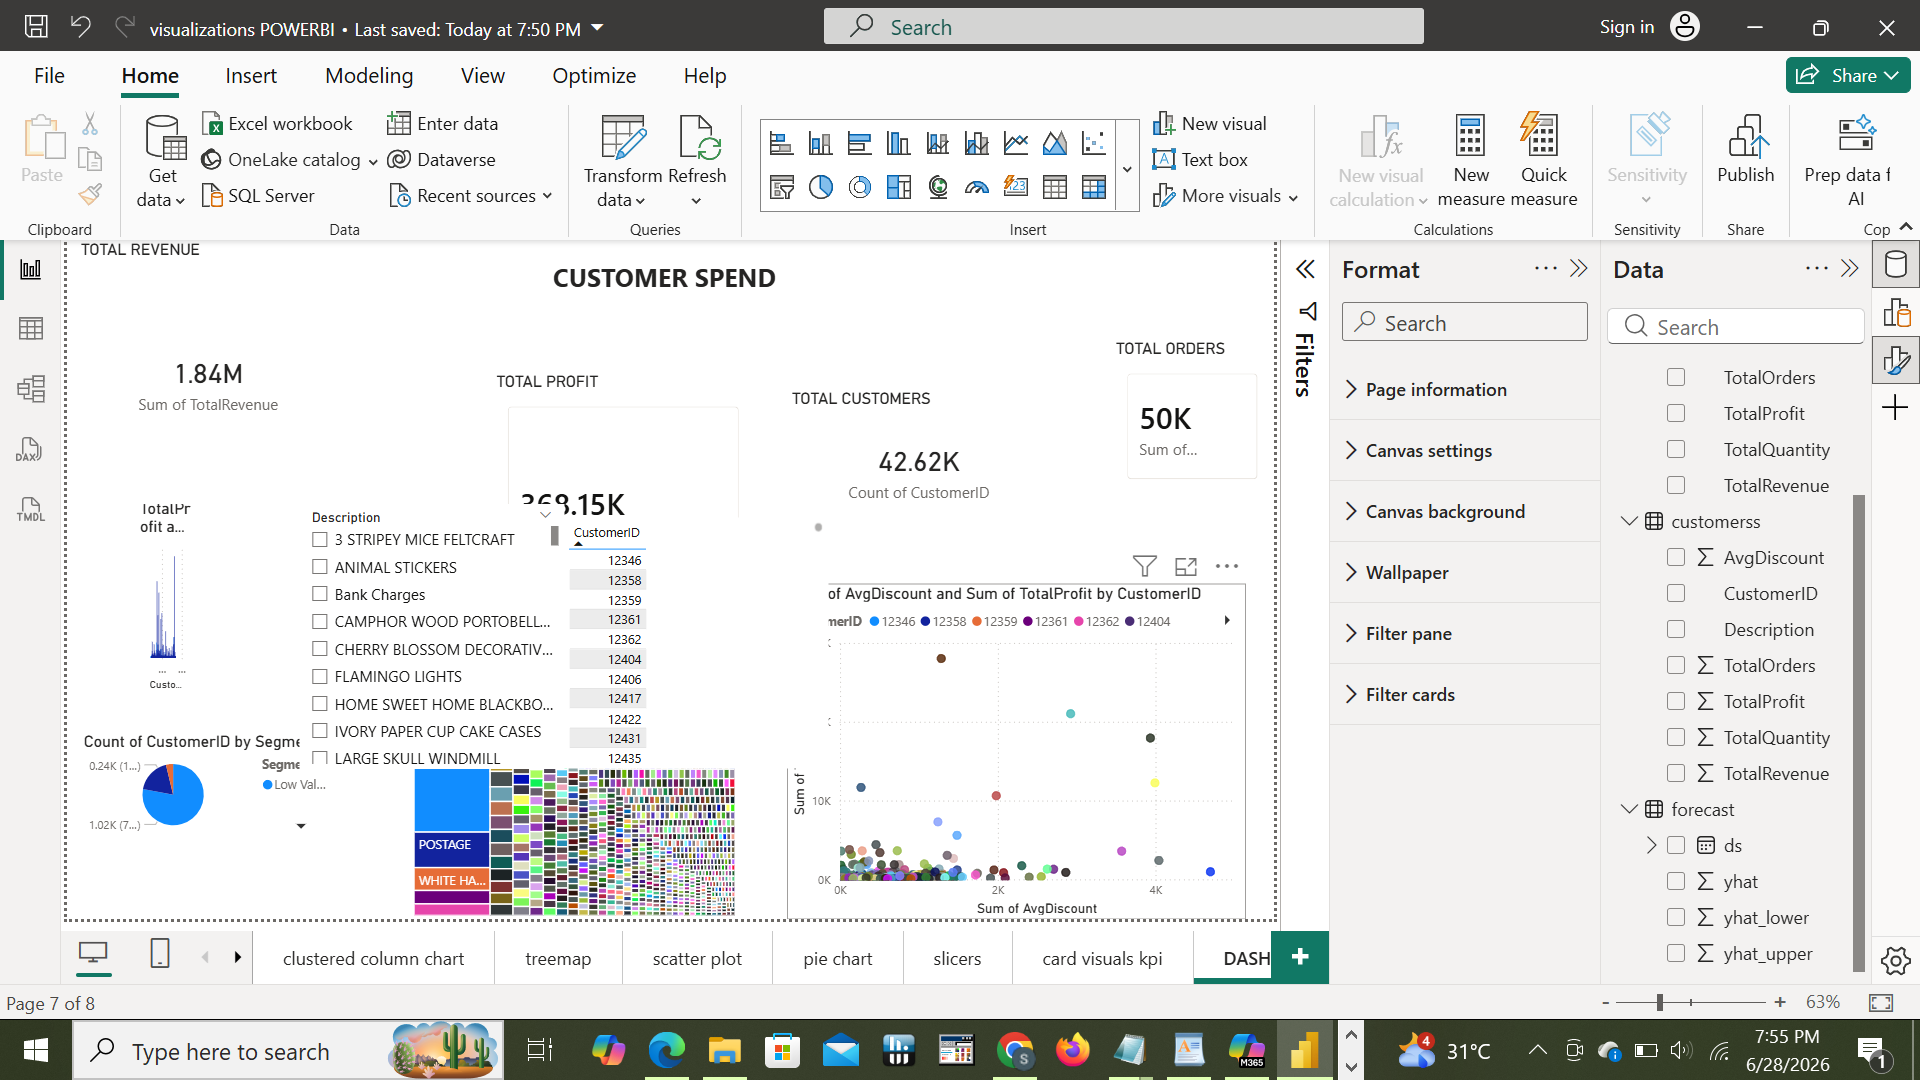

This screenshot's page, from the dashboard's own definition file:
{"tool":"powerbi","page":{"name":"DASHBOARD","canvas":[1280,720],"ordinal":6},"visuals":[{"type":"textbox","box":[311.9,16.2,534.7,62.8],"z":0},{"type":"clusteredColumnChart","fields":{"Category":["customerspend_powerbi.CustomerID"],"Y":["Sum(customerspend_powerbi.TotalProfit)","Sum(customerspend_powerbi.TotalRevenue)"]},"box":[56.7,234.9,95.2,261.3],"z":1},{"type":"treemap","fields":{"Group":["customerss.Description"],"Values":["Sum(customerss.TotalRevenue)"]},"box":[362.5,401,350.4,320],"z":2},{"type":"scatterChart","fields":{"X":["Sum(customerss.AvgDiscount)"],"Y":["Sum(customerss.TotalProfit)"],"Series":["customerss.CustomerID"]},"box":[763.5,364.6,486.1,356.5],"z":3},{"type":"pieChart","fields":{"Category":["customerspend_powerbi.Segment"],"Y":["CountNonNull(customerspend_powerbi.CustomerID)"]},"box":[12.7,521.7,279.9,112.9],"z":4},{"type":"card","title":"TOTAL REVENUE","fields":{"Values":["Sum(customerss.TotalRevenue)"]},"box":[10,0,280,280],"z":5},{"type":"cardVisual","title":"TOTAL ORDERS","fields":{"Data":["Sum(customerss.TotalOrders)"]},"box":[1107.8,105.3,172.2,166.1],"z":6},{"type":"cardVisual","title":"TOTAL PROFIT","fields":{"Data":["Sum(customerss.TotalProfit)"]},"box":[449.6,139.7,279.5,279.5],"z":7},{"type":"card","title":"TOTAL CUSTOMERS","fields":{"Values":["CountNonNull(customerss.CustomerID)"]},"box":[763.5,158,279.5,151.9],"z":8},{"type":"slicer","fields":{"Values":["customerss.Description"]},"box":[246.5,279.9,279.9,279.9],"z":9},{"type":"tableEx","fields":{"Values":["customerss.CustomerID"]},"box":[526.5,294.3,279.9,265.6],"z":10}]}

Visuals, with their boxes on the page's 1280x720 design canvas (x1, y1, x2, y2). These are canvas units, not pixel positions in the 1920x1080 screenshot, which may show the page scaled, cropped or inside an application window:
textbox: Rect(312, 16, 847, 79)
clusteredColumnChart - customerspend_powerbi.CustomerID x Sum(customerspend_powerbi.TotalProfit): Rect(57, 235, 152, 496)
treemap - customerss.Description x Sum(customerss.TotalRevenue): Rect(362, 401, 713, 721)
scatterChart - Sum(customerss.AvgDiscount) x Sum(customerss.TotalProfit): Rect(764, 365, 1250, 721)
pieChart - customerspend_powerbi.Segment x CountNonNull(customerspend_powerbi.CustomerID): Rect(13, 522, 293, 635)
"TOTAL REVENUE" card: Rect(10, 0, 290, 280)
"TOTAL ORDERS" cardVisual: Rect(1108, 105, 1280, 271)
"TOTAL PROFIT" cardVisual: Rect(450, 140, 729, 419)
"TOTAL CUSTOMERS" card: Rect(764, 158, 1043, 310)
slicer - customerss.Description: Rect(246, 280, 526, 560)
tableEx - customerss.CustomerID: Rect(526, 294, 806, 560)
